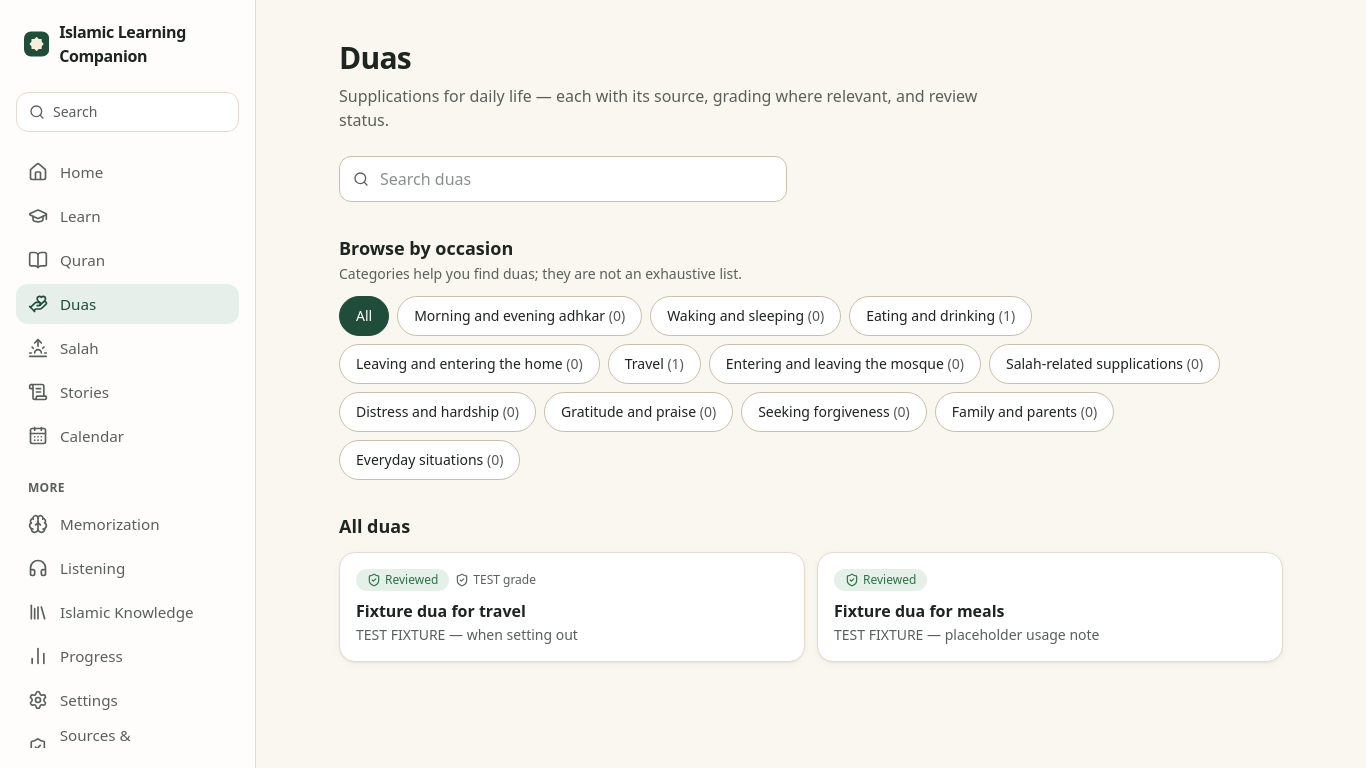
Scenario: dua library › searches, filters by category, and never lists unpublished duas
expect the link "Fixture dua for travel" is shown: met, box [339,552,805,662]
Click the button "Travel (1)": (654, 364) [608,344,701,384]
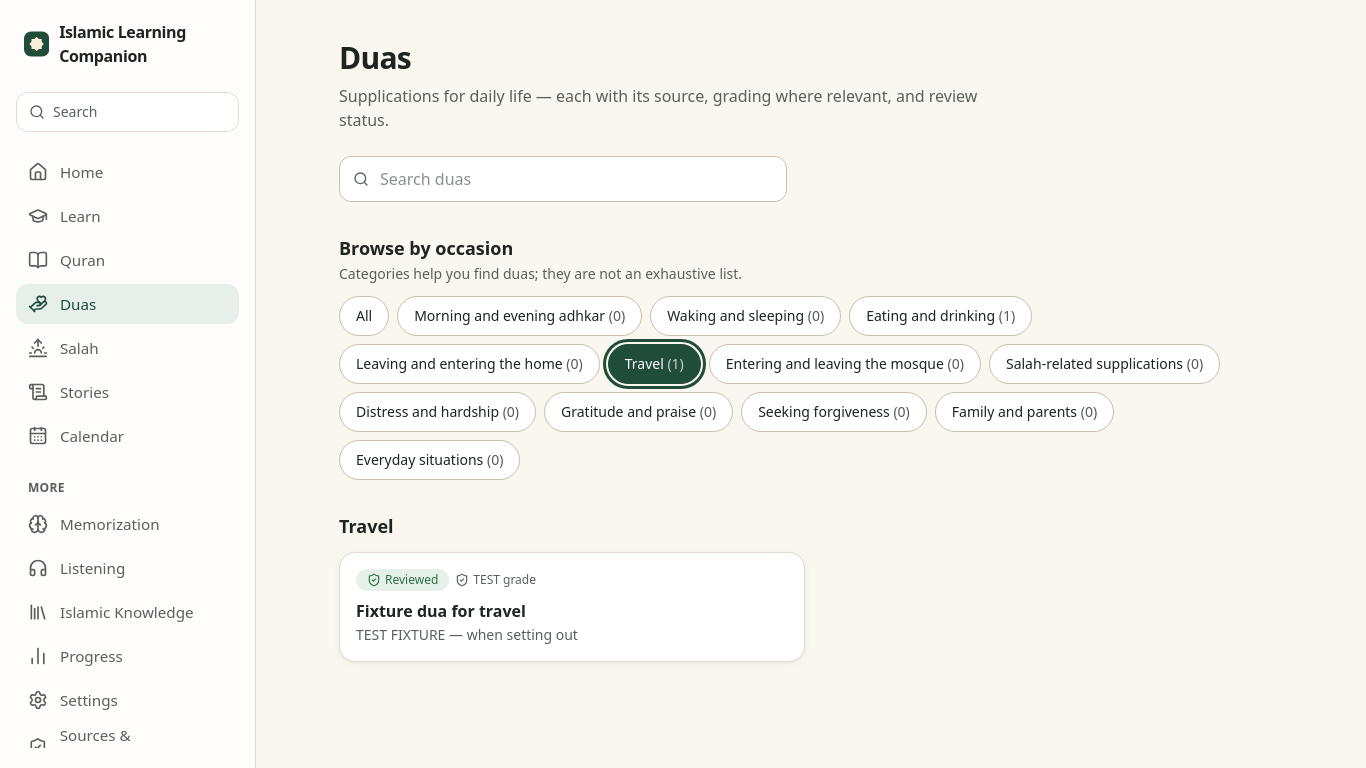
expect the link "Fixture dua for meals" is gone: met
Click the button "All": (364, 316) [339,296,389,336]
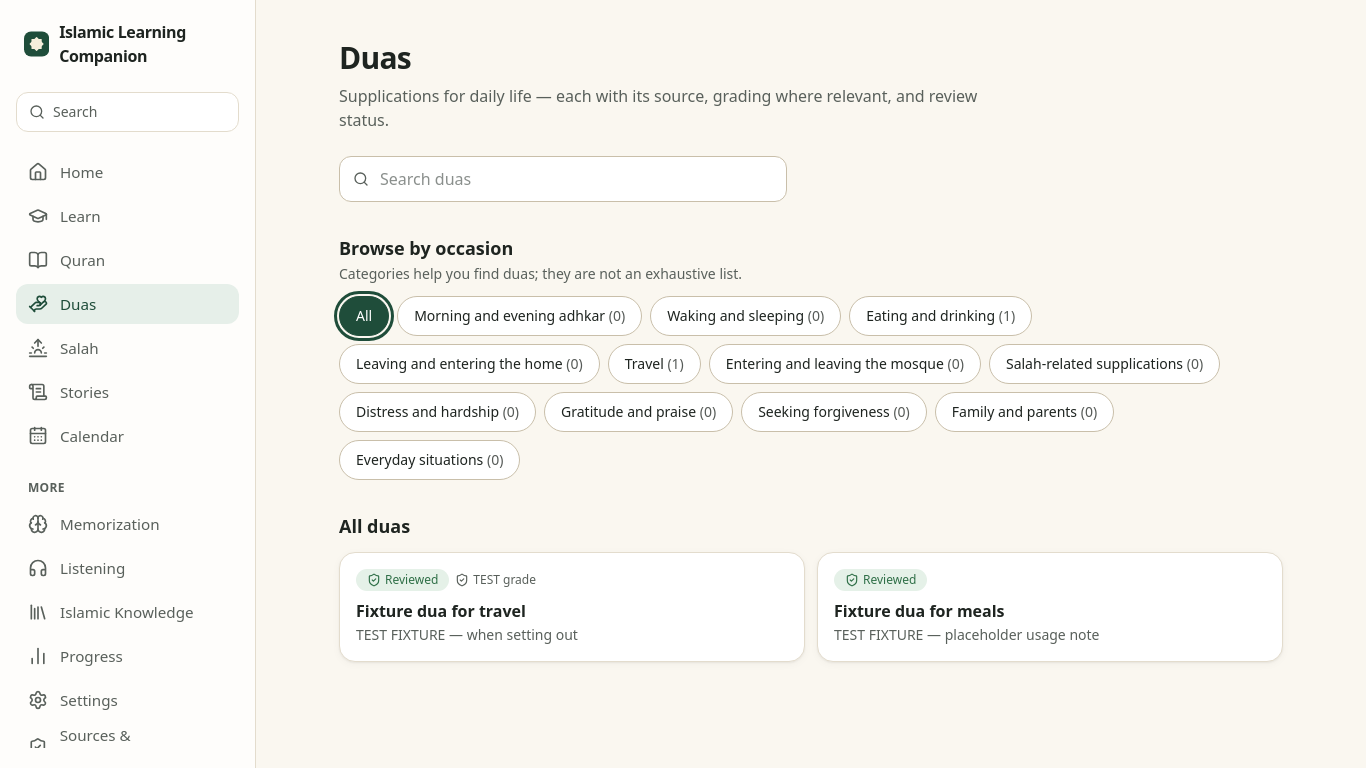
In the search field labelled "Search duas": (563, 179) [339,156,787,202], type "meals"
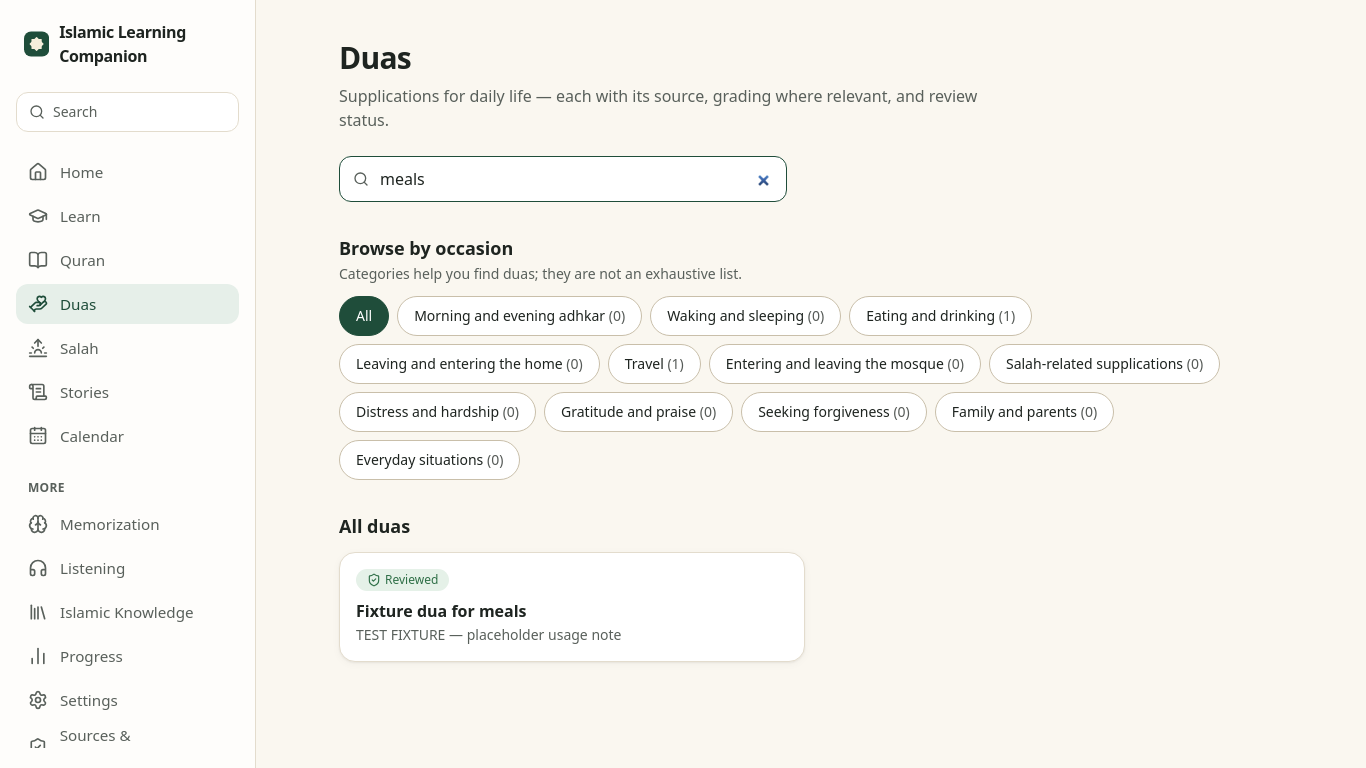
expect the link "Fixture dua for meals" is shown: met, box [339,552,805,662]
expect the link "Fixture dua for travel" is gone: met
